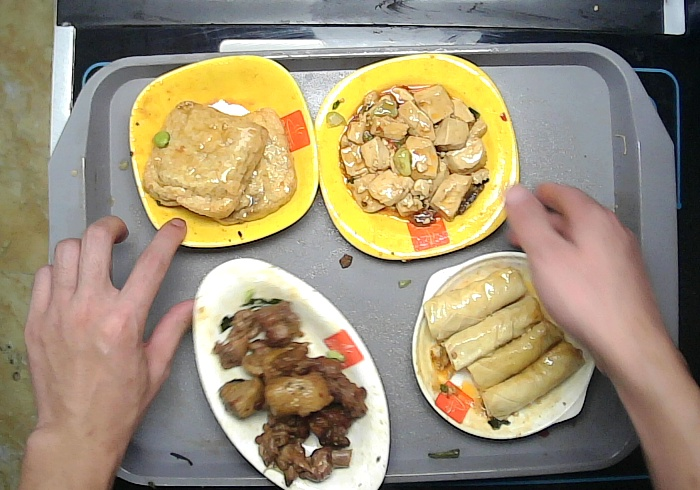SHKJ-Bao_Yu_Pan: (411, 250, 599, 443)
SHKJ-Huang_Se_Cai_Die: (126, 54, 319, 249)
SHKJ-Huang_Se_Si_Fang_Cai_Die: (314, 51, 524, 262)
SHKJ-Yu_Pan: (189, 257, 393, 490)
